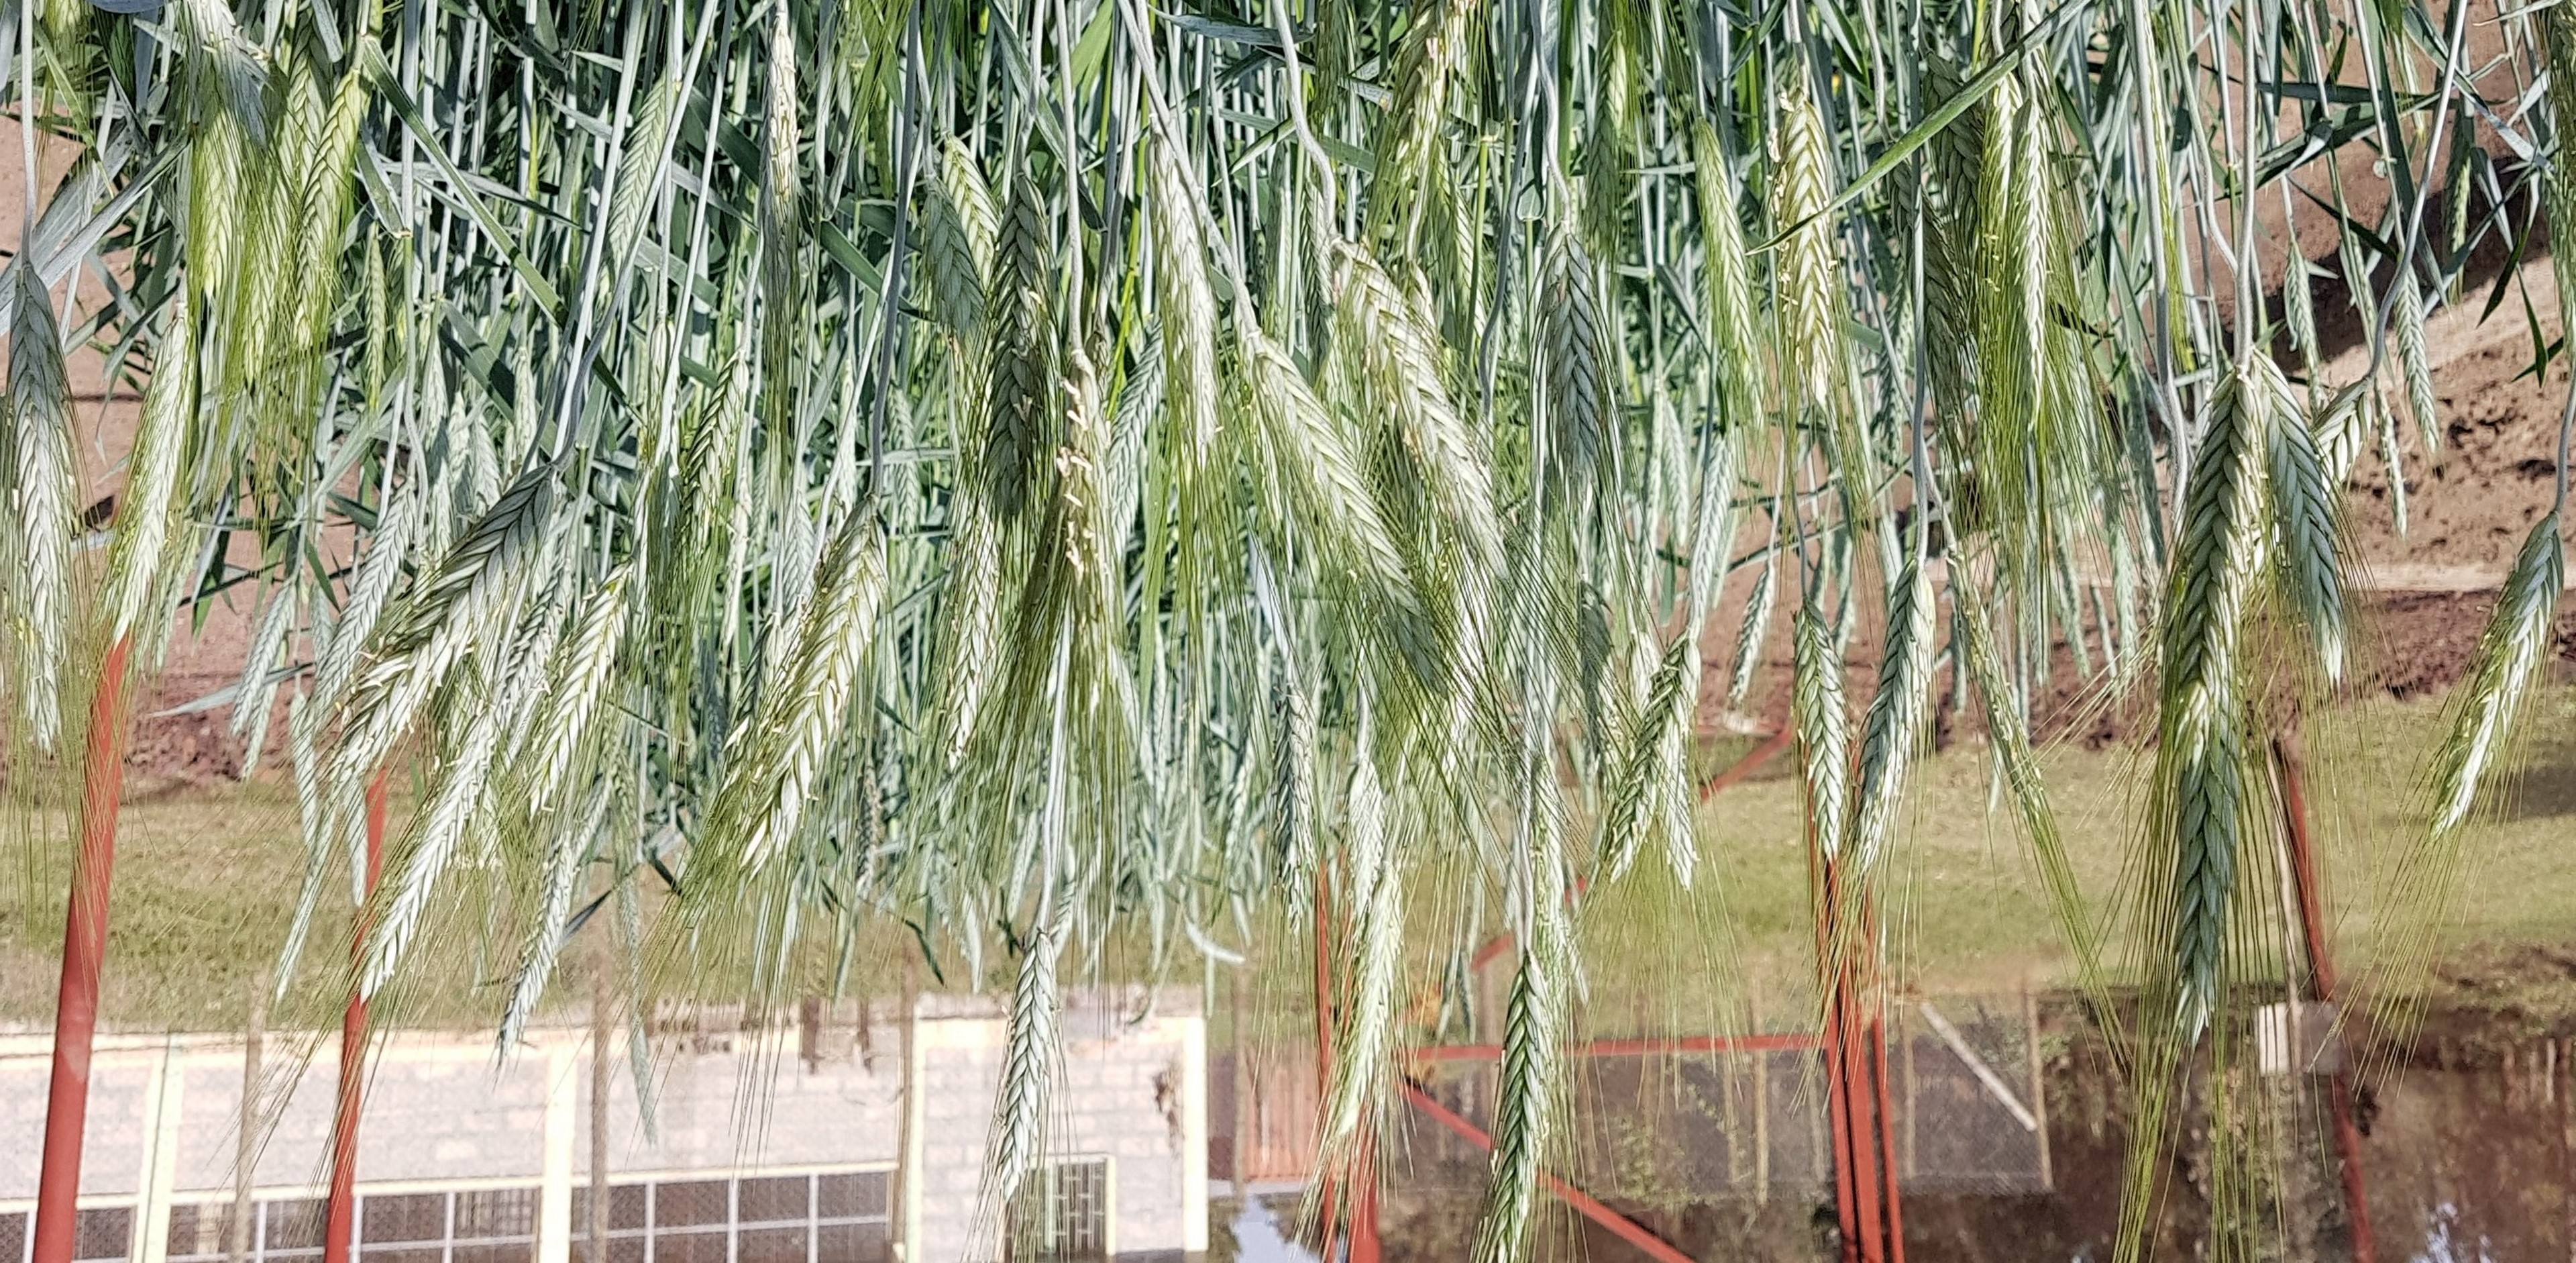Healthy Wheat: (299, 424, 628, 1059), (693, 488, 1030, 886), (2149, 288, 2397, 791), (1774, 559, 1960, 890), (1464, 942, 1608, 1251)
